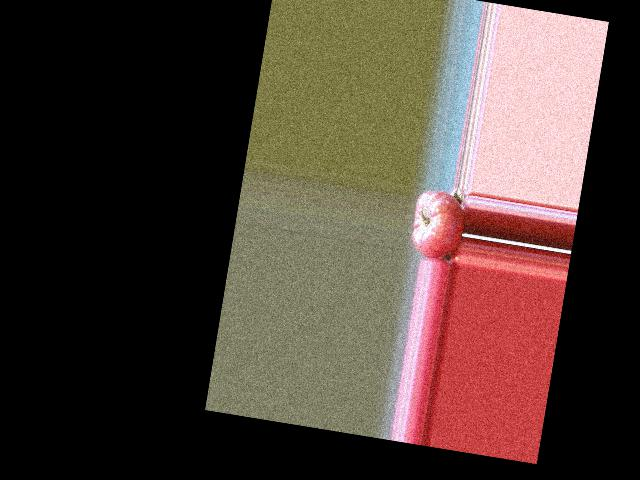tomato: (408, 187, 469, 263)
